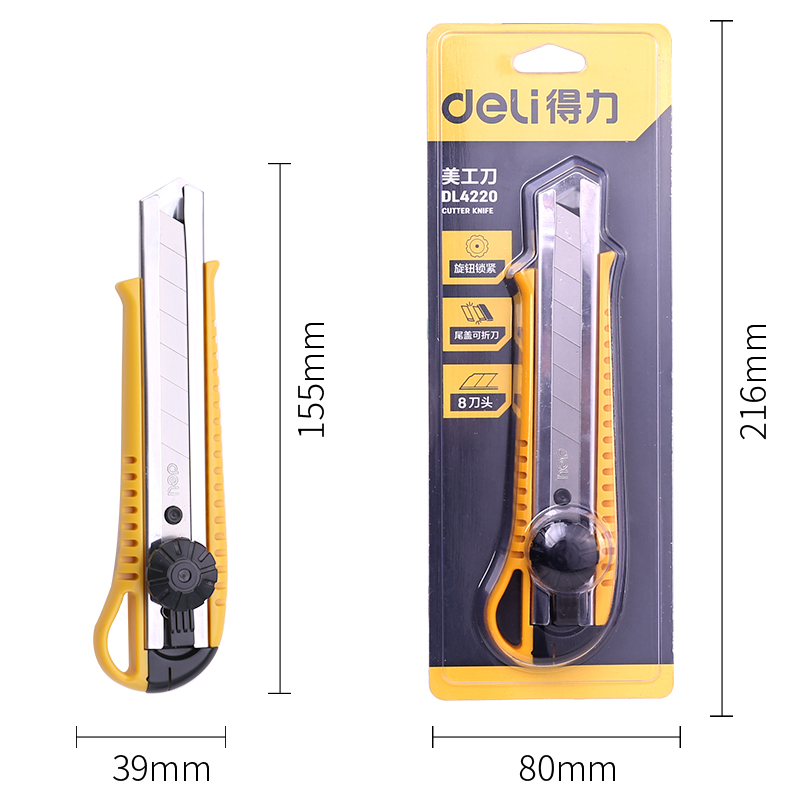cutter: (480, 159, 629, 671), (90, 179, 224, 694)
